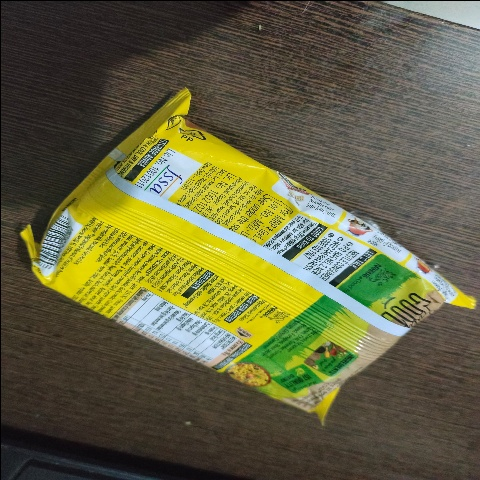maggi: (30, 72, 455, 427)
